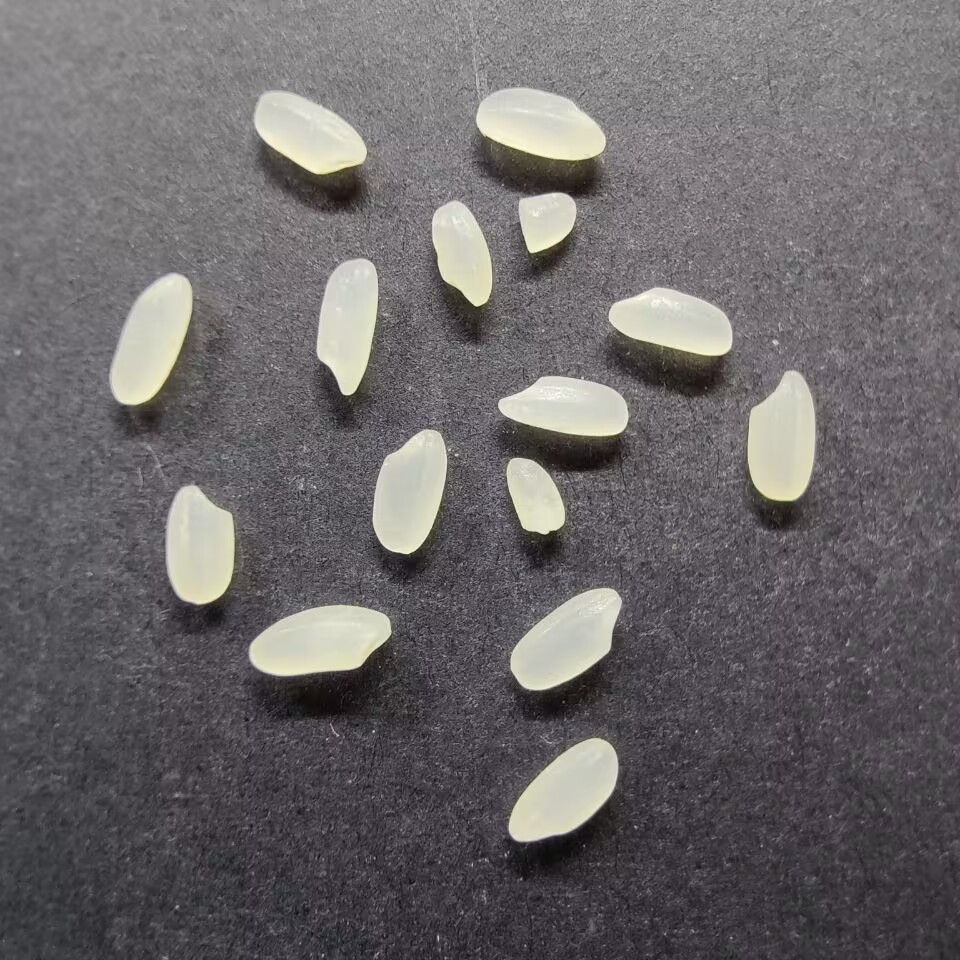broken: (505, 456, 568, 536), (516, 192, 577, 254)
rice: (506, 737, 620, 846), (509, 586, 623, 692), (108, 272, 194, 405), (245, 603, 392, 677), (250, 89, 370, 176), (472, 84, 607, 161), (371, 424, 448, 556), (744, 367, 818, 502), (604, 286, 736, 357), (314, 256, 380, 398), (163, 482, 235, 607), (495, 372, 629, 438), (428, 199, 495, 307)
